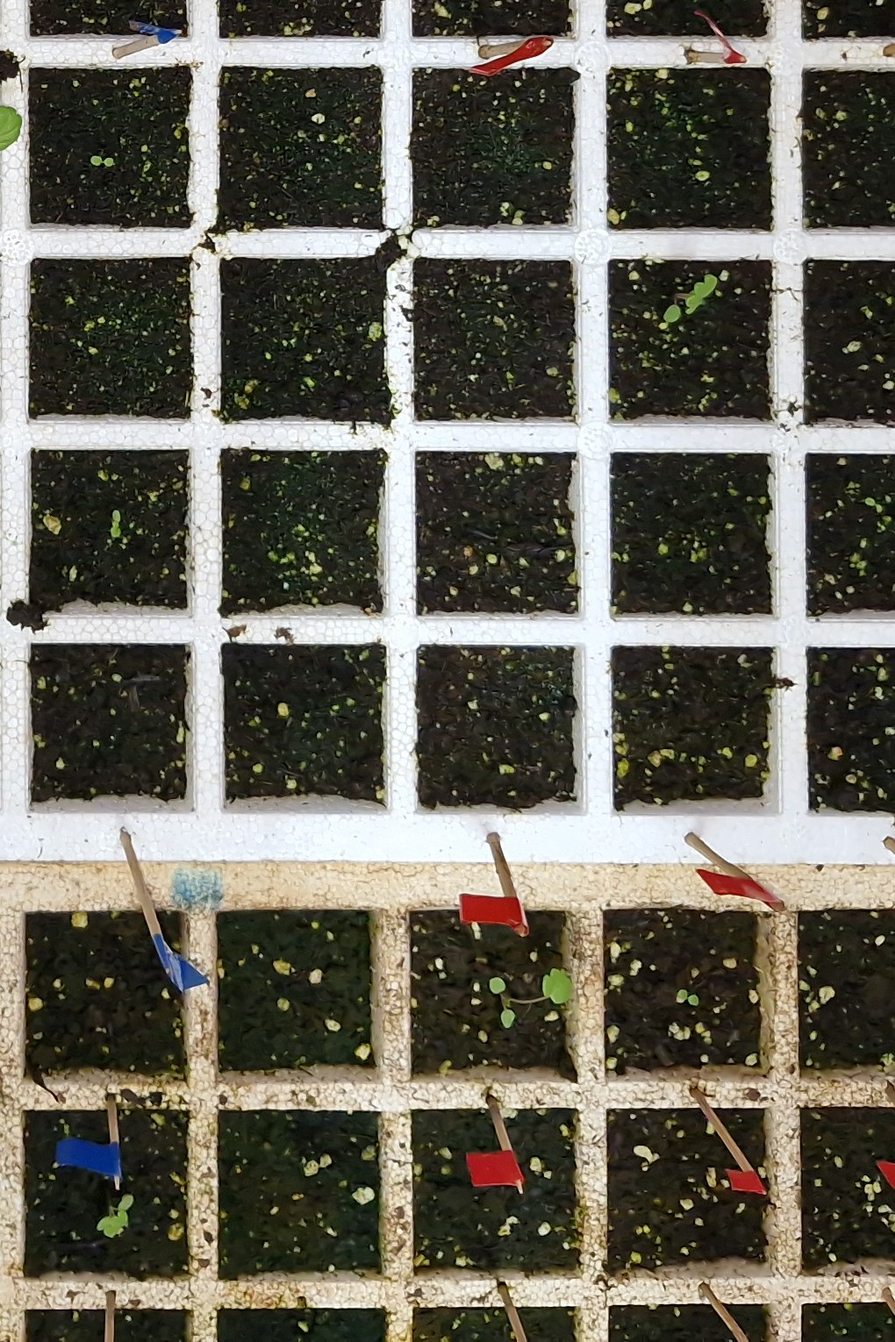Folha: (686, 275, 716, 314), (0, 106, 22, 151), (664, 305, 680, 323), (91, 155, 102, 166)
Germinacao: (0, 106, 22, 232), (664, 275, 717, 322), (90, 156, 113, 167)
